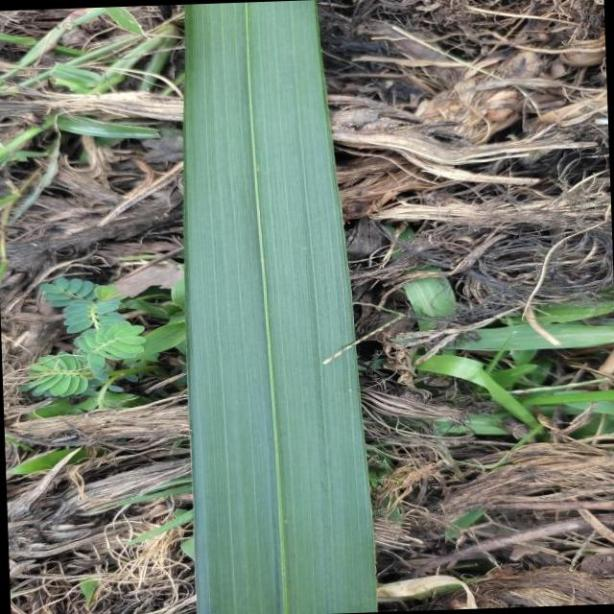Healthy: (182, 1, 380, 614)
